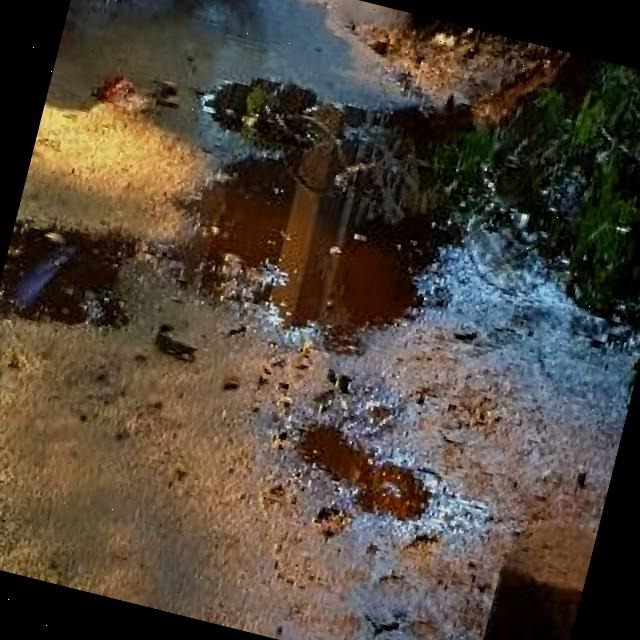stagnation: (169, 40, 495, 372), (0, 192, 156, 344)
